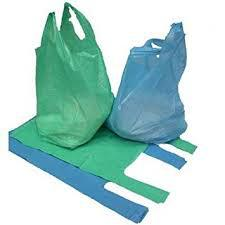Plastic: (31, 0, 116, 151), (108, 18, 197, 147)
